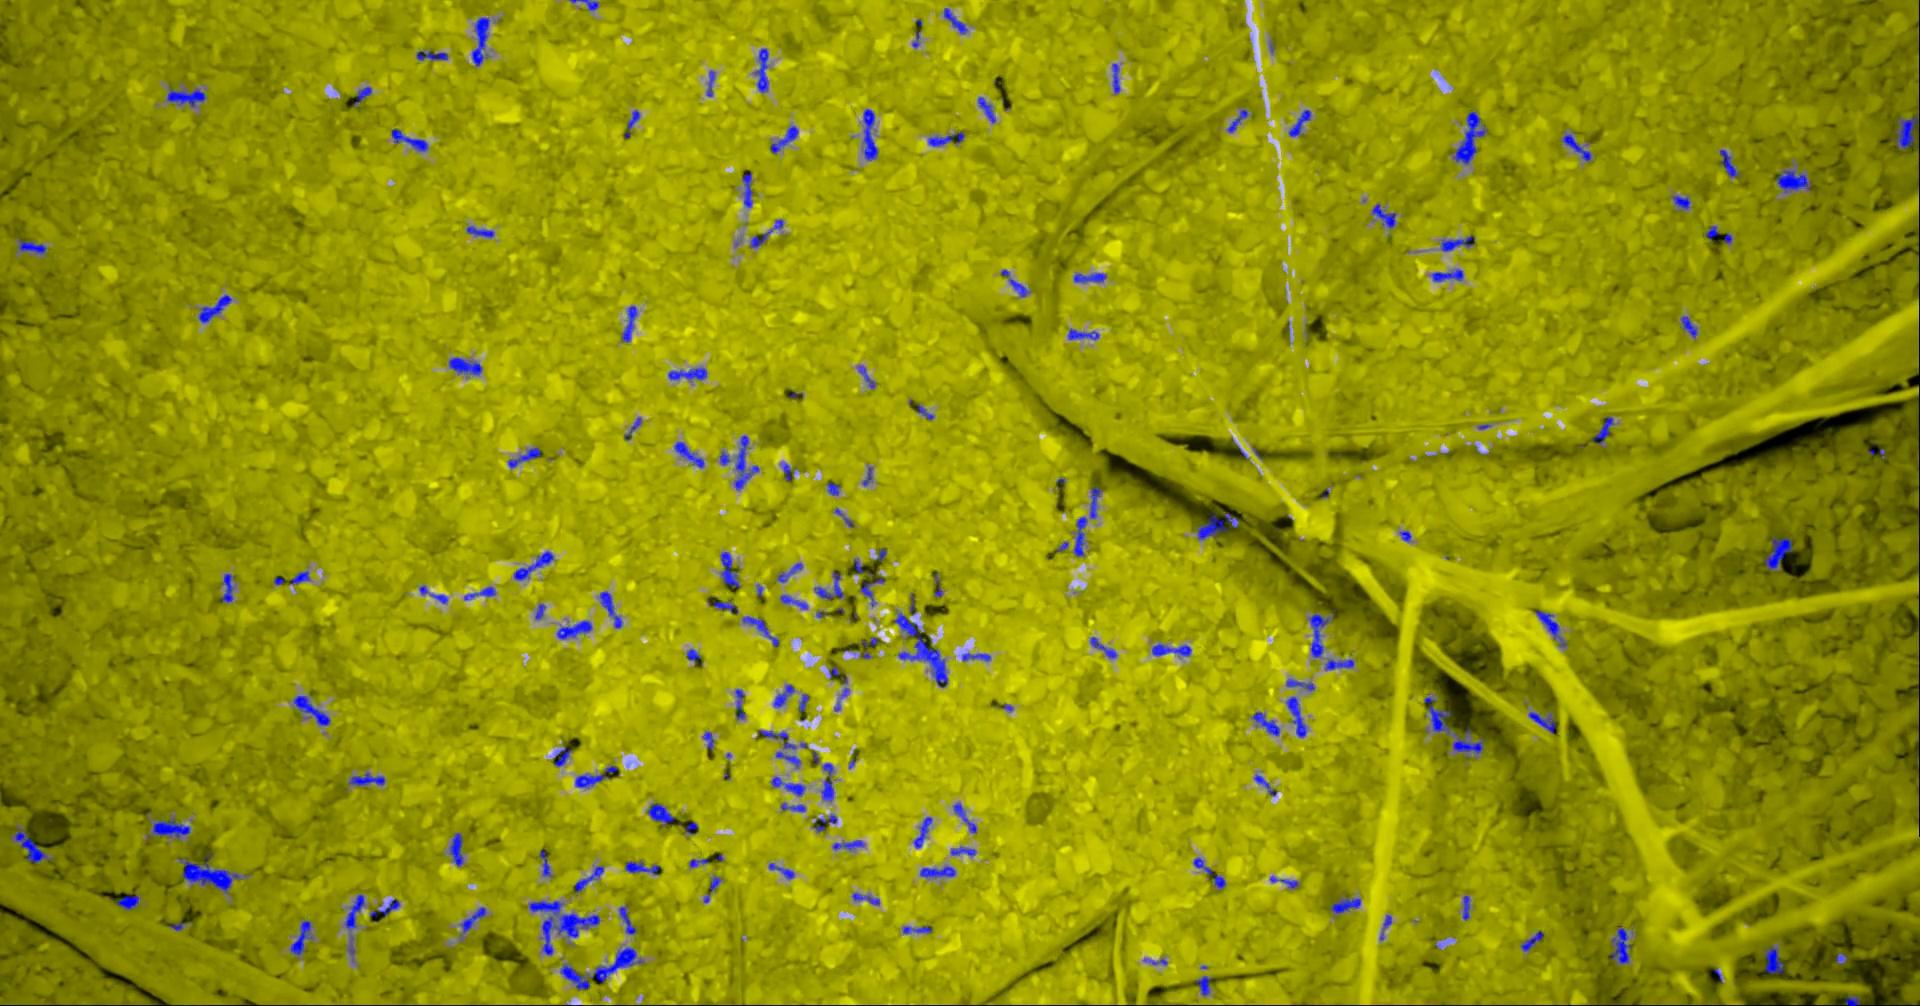ant: (893, 612, 947, 687), (559, 948, 643, 989), (178, 854, 241, 892), (1073, 486, 1102, 556), (1453, 111, 1487, 164), (734, 434, 758, 489), (14, 828, 52, 862), (1423, 696, 1457, 734), (513, 550, 552, 580), (1535, 608, 1566, 647), (742, 616, 778, 647), (293, 695, 330, 725), (1197, 512, 1239, 539), (1895, 107, 1919, 150), (1309, 614, 1333, 657), (757, 729, 808, 749), (1192, 857, 1225, 888), (574, 765, 617, 788), (1763, 537, 1793, 569), (198, 293, 231, 323), (750, 218, 783, 246), (1451, 727, 1483, 754), (471, 17, 489, 65), (599, 591, 622, 627), (814, 572, 843, 600), (391, 128, 427, 151), (1561, 133, 1591, 160), (673, 441, 703, 467), (290, 920, 312, 954), (770, 124, 797, 152), (574, 865, 603, 892), (1286, 696, 1305, 737), (152, 818, 190, 838), (1609, 927, 1630, 963), (1777, 169, 1810, 192), (166, 86, 206, 105), (858, 577, 884, 606), (952, 801, 977, 832), (863, 108, 877, 160), (344, 894, 364, 930), (720, 551, 739, 587), (770, 776, 805, 795), (460, 906, 485, 932), (507, 447, 540, 467), (556, 620, 590, 639), (1252, 711, 1279, 735), (370, 899, 399, 921), (913, 815, 932, 848), (943, 8, 968, 33), (1288, 109, 1310, 136), (754, 48, 768, 91), (1528, 711, 1556, 733), (648, 803, 676, 824), (448, 357, 481, 375), (1371, 205, 1396, 229), (1591, 417, 1613, 443), (1090, 636, 1116, 658), (1763, 945, 1783, 973), (1440, 235, 1474, 251), (927, 131, 964, 146), (621, 305, 636, 340), (776, 561, 803, 582), (1719, 149, 1738, 177), (618, 904, 636, 934), (1150, 643, 1191, 655), (1330, 897, 1360, 913), (1225, 109, 1247, 132), (1253, 774, 1276, 795), (773, 683, 794, 708), (977, 97, 996, 122), (450, 832, 463, 866), (1520, 930, 1543, 950), (348, 772, 383, 785), (623, 861, 659, 874), (919, 865, 955, 878), (667, 367, 706, 379), (623, 109, 639, 138), (17, 239, 46, 254), (707, 597, 737, 612), (463, 586, 495, 600), (822, 763, 833, 801), (775, 751, 799, 768), (768, 862, 794, 879), (742, 171, 753, 207), (780, 594, 808, 608), (552, 746, 571, 766), (813, 814, 836, 831), (220, 573, 232, 602), (1269, 875, 1298, 888), (1431, 269, 1463, 281), (1067, 328, 1098, 339), (1010, 278, 1030, 296), (1680, 315, 1697, 337), (861, 636, 877, 658), (538, 848, 551, 876), (851, 892, 879, 904), (858, 365, 874, 387), (116, 894, 138, 909), (353, 86, 371, 105), (466, 225, 493, 238), (1285, 678, 1314, 690), (1073, 272, 1105, 282), (1195, 976, 1211, 995), (417, 50, 447, 60), (569, 0, 598, 10), (1324, 659, 1352, 669), (832, 840, 863, 848), (1379, 915, 1390, 939), (917, 403, 933, 419), (735, 688, 744, 719), (961, 652, 990, 661), (902, 925, 931, 934), (950, 846, 975, 856), (912, 19, 921, 47), (290, 570, 309, 583), (1672, 196, 1689, 210), (686, 648, 700, 664), (780, 801, 805, 810), (1111, 64, 1119, 93), (688, 857, 709, 868), (706, 70, 714, 97), (825, 481, 839, 495), (1705, 225, 1718, 240), (702, 730, 712, 749), (1462, 895, 1469, 920), (782, 464, 792, 481), (797, 694, 808, 711), (684, 821, 697, 835), (1844, 995, 1860, 1005), (709, 876, 720, 890), (535, 603, 545, 619)
